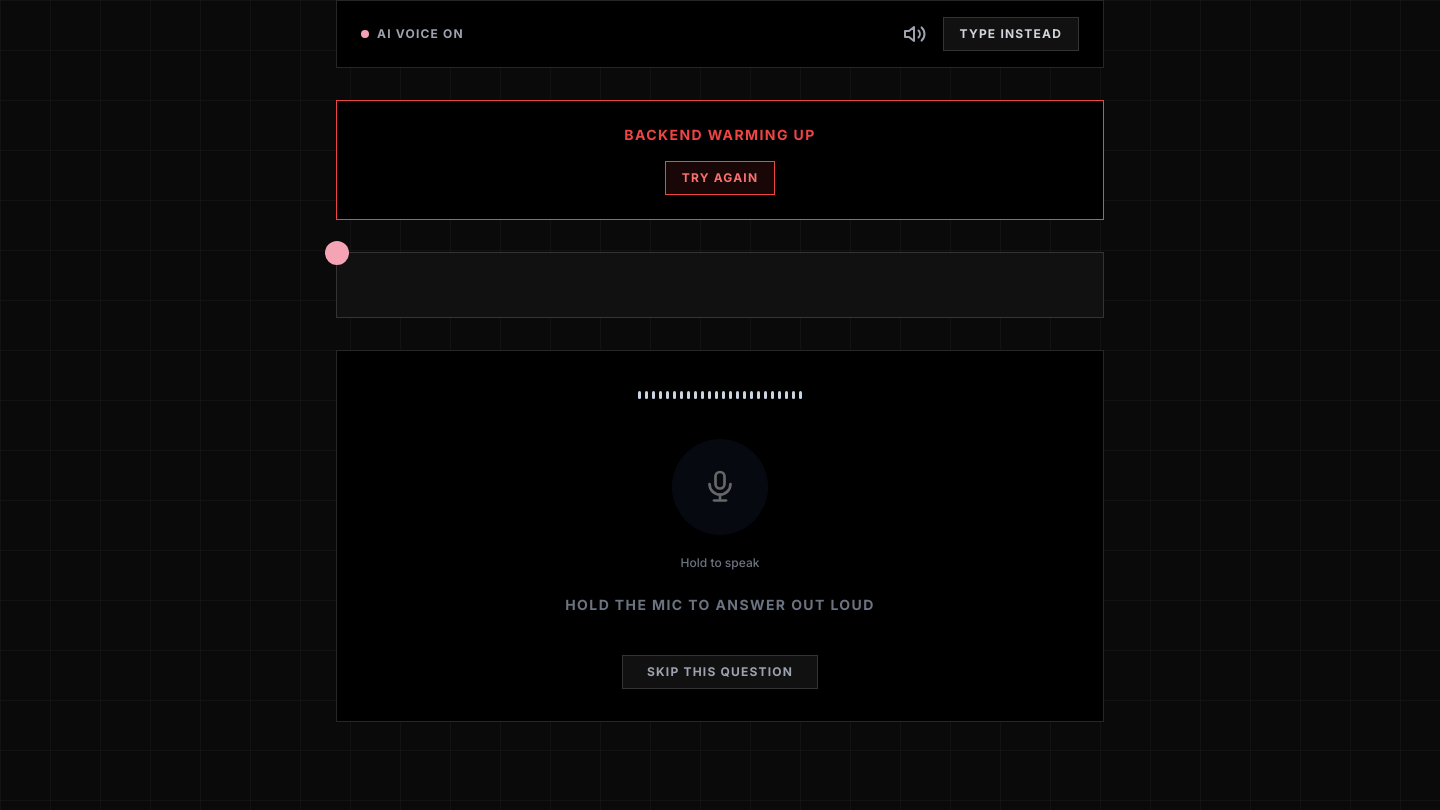
Test: VoiceInterview › surfaces a session-level load failure and retries it
Expected: the message shows "Backend warming up", x1=624 y1=126 x2=816 y2=143
Step 1. Click the button "TRY AGAIN" → {"x": 720, "y": 178}, box x1=665 y1=161 x2=775 y2=195
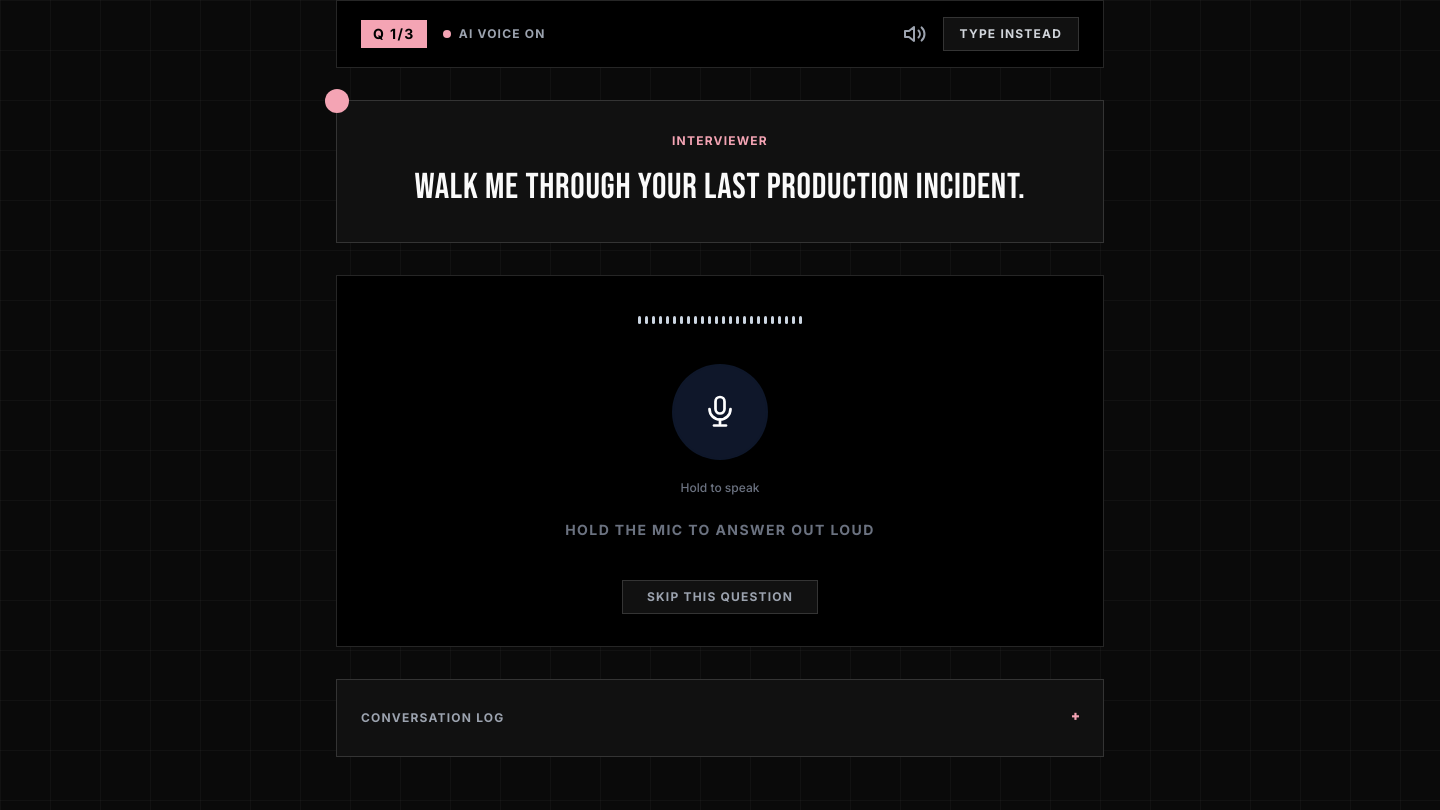
Result: the text "Walk me through your last production incident." is shown at x1=384 y1=165 x2=1056 y2=210
